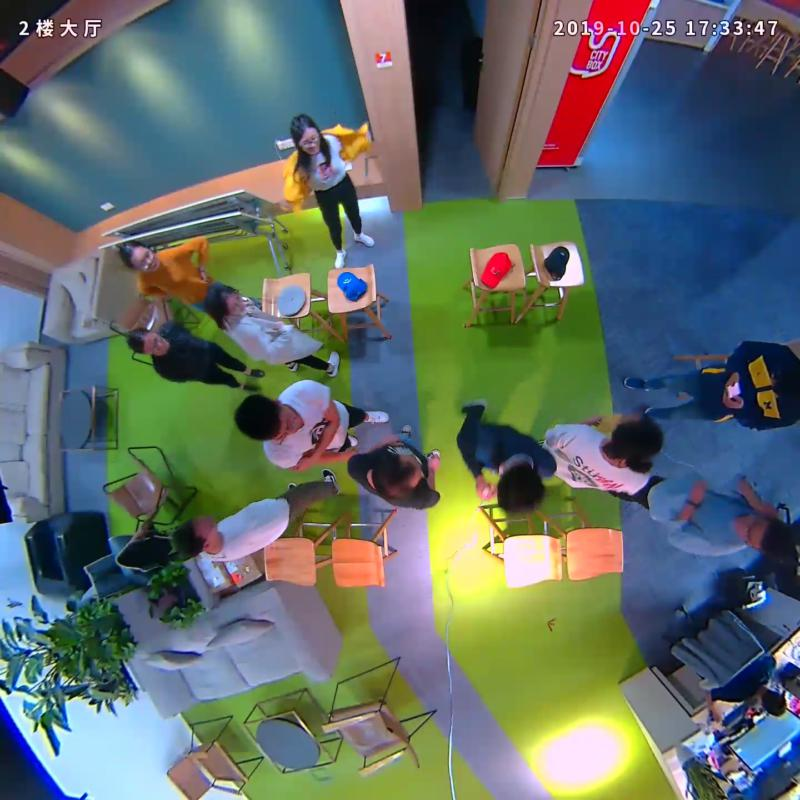head: (234, 394, 301, 443), (610, 412, 664, 462), (372, 451, 424, 500), (496, 462, 545, 514), (735, 513, 790, 556), (170, 515, 218, 555), (289, 113, 323, 156), (118, 241, 160, 273), (124, 328, 168, 358), (204, 283, 245, 315)
